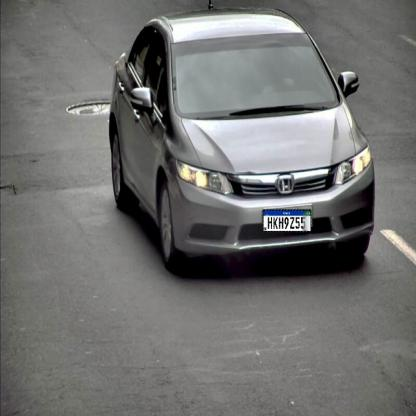PlacaM: (262, 210, 312, 232)
